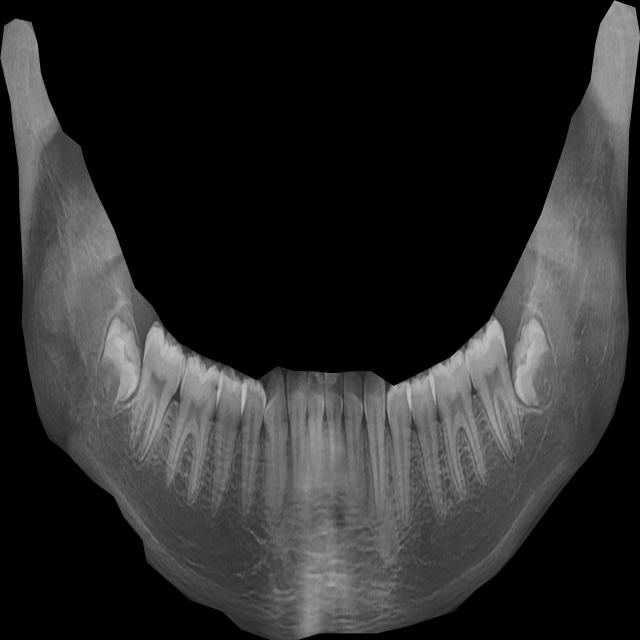mandibula: (0, 0, 640, 640)
